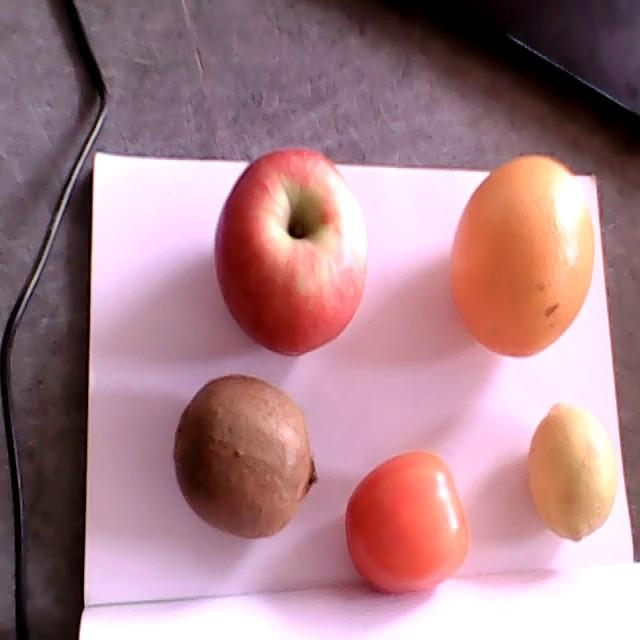apple: (214, 149, 369, 357)
kiwi: (173, 374, 319, 539)
lemon: (526, 403, 617, 543)
orange: (450, 155, 596, 358)
tomato: (344, 451, 468, 591)
